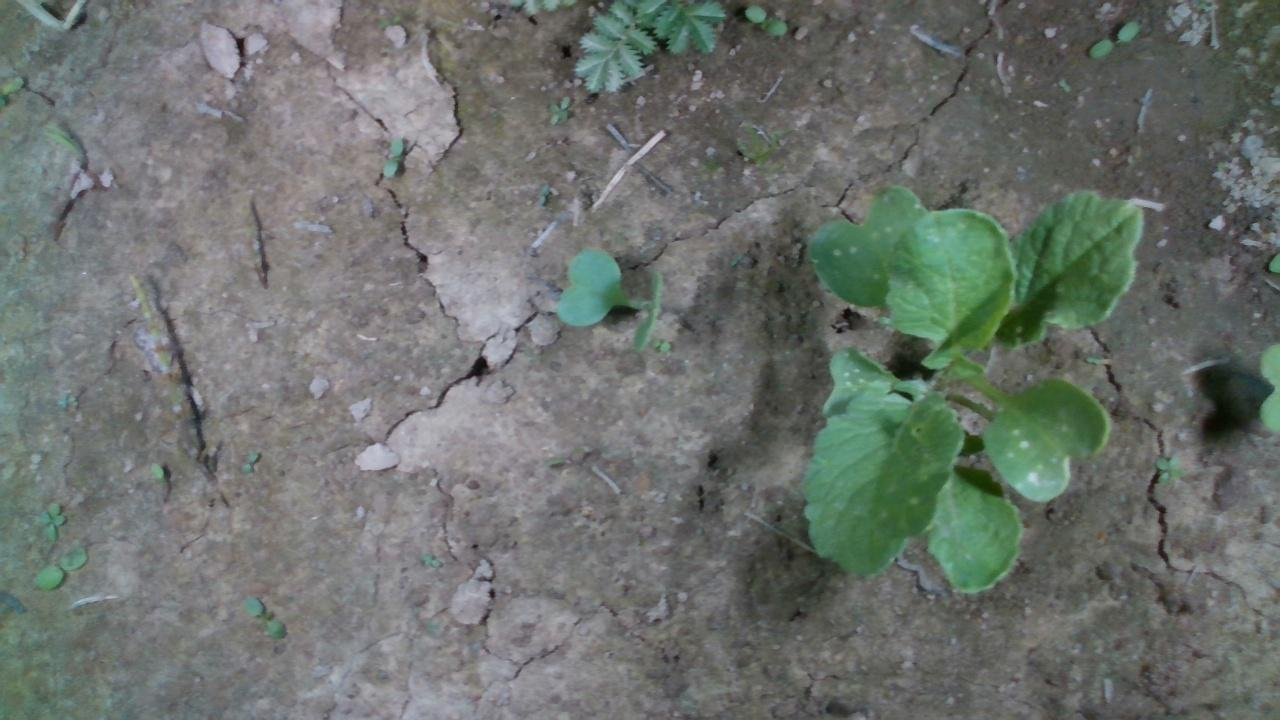weed: (33, 543, 88, 590), (1085, 18, 1140, 60), (242, 593, 288, 641), (742, 2, 788, 36), (37, 499, 67, 541), (380, 133, 404, 177), (1154, 450, 1184, 484), (546, 93, 571, 124), (649, 336, 672, 351)
